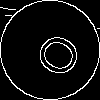O: (25, 25, 84, 82)
